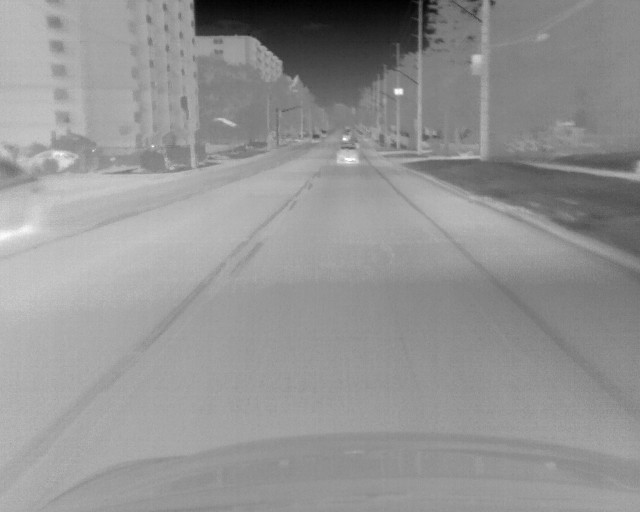car: (1, 148, 46, 234), (336, 145, 359, 166), (342, 133, 353, 144)
